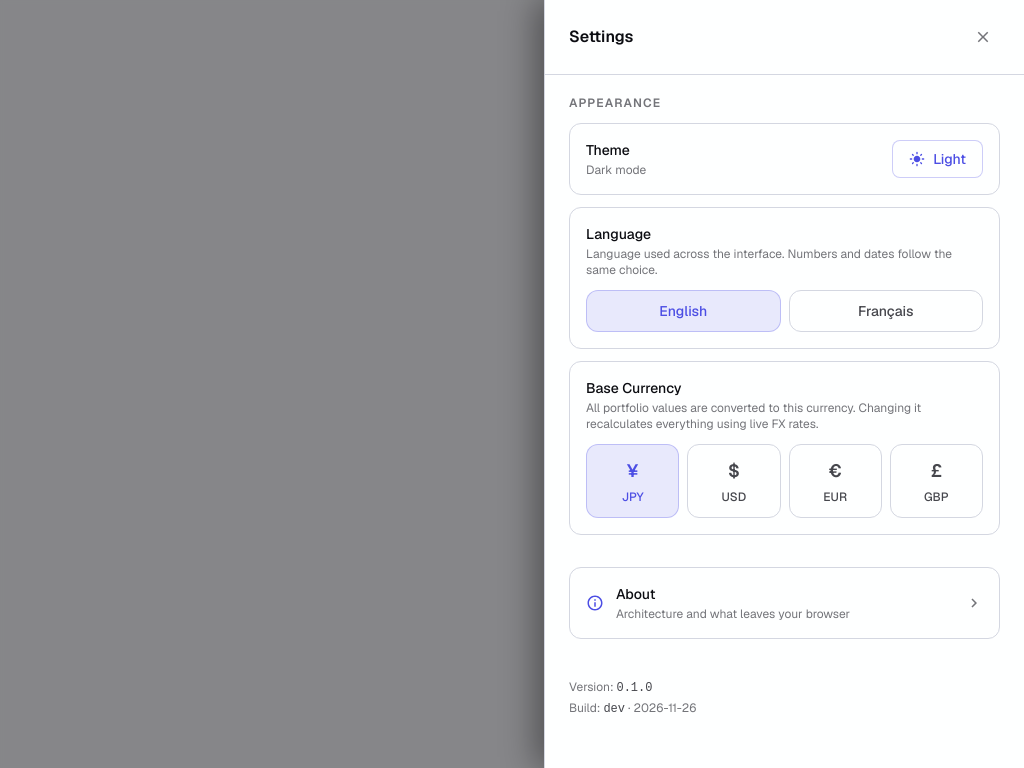
SettingsPanel — language selection › re-renders every label in French after picking Français
Click the button "Français" at (886, 311), box [788,290,983,332]
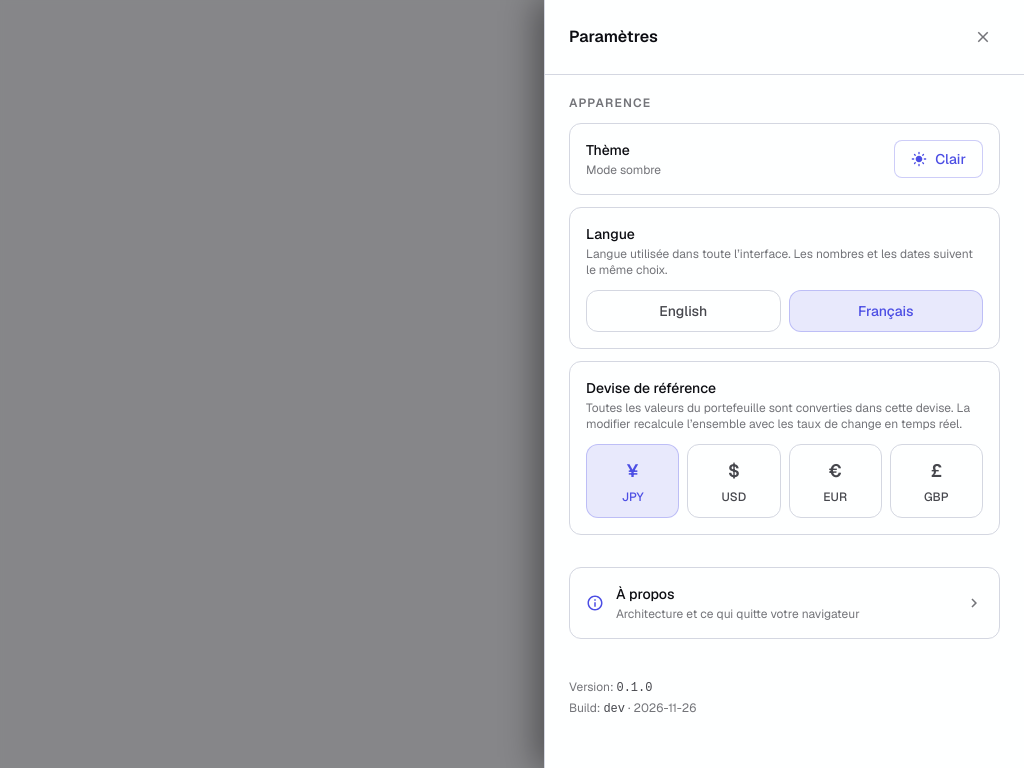
Check: the heading "Paramètres" is shown, box [569,25,658,49]
Check: the text "Devise de référence" is shown, box [586,379,716,397]
Check: the text "Toutes les valeurs du portefeuille sont converties dans cette devise. La modifier recalcule l’ensemble avec les taux de " is shown, box [586,400,970,432]
